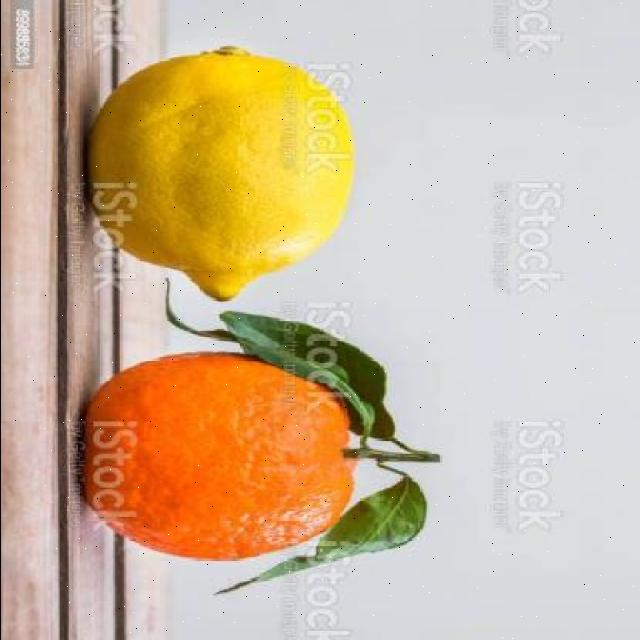Orange: (79, 349, 358, 560)
